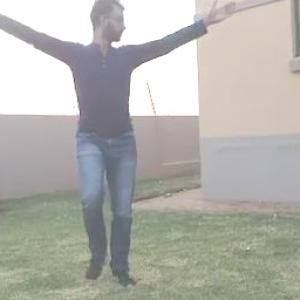takeoff: (1, 0, 240, 299)
